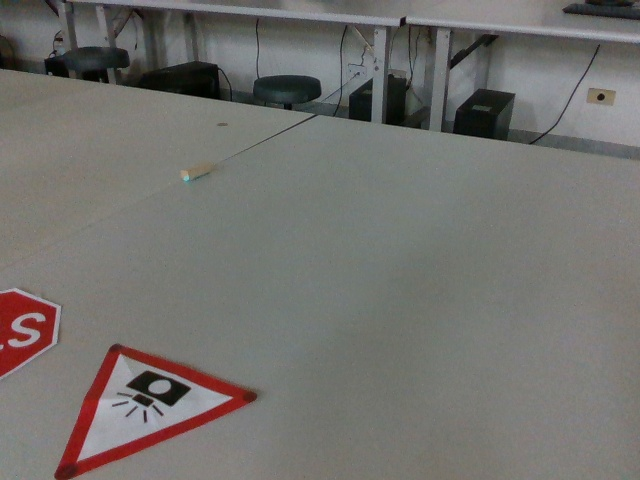camera: (48, 340, 258, 480)
